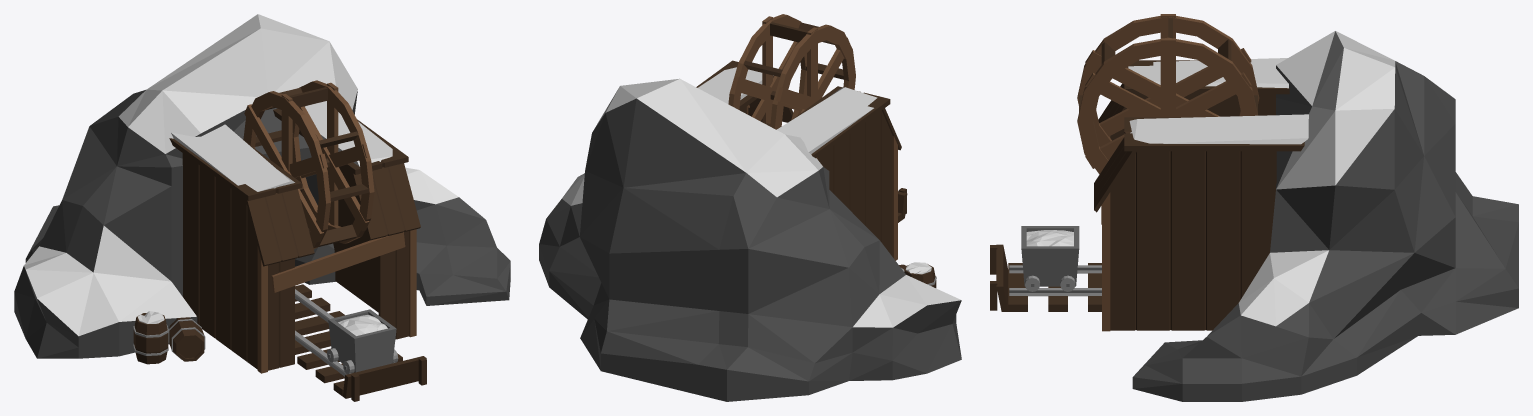
The model's file is mine_2_snow_mat.fbx.
3 views of the same model, side by side, from view 1: azimuth 30°, elevation 25°; view 2: azimuth 150°, elevation 25°; view 3: azimuth 270°, elevation 25° (orthographic). The views are drawn at different scales.
Parts seen in each view (by area): view 1: mine_2_snow_mat; view 2: mine_2_snow_mat; view 3: mine_2_snow_mat.
Boxes of the visible parts, box(x1,y1,x2,y2) form: mine_2_snow_mat: box(14, 14, 510, 401); mine_2_snow_mat: box(539, 14, 961, 401); mine_2_snow_mat: box(990, 14, 1518, 401).
Bounding box in the file's own units: 588 × 325 × 572.
